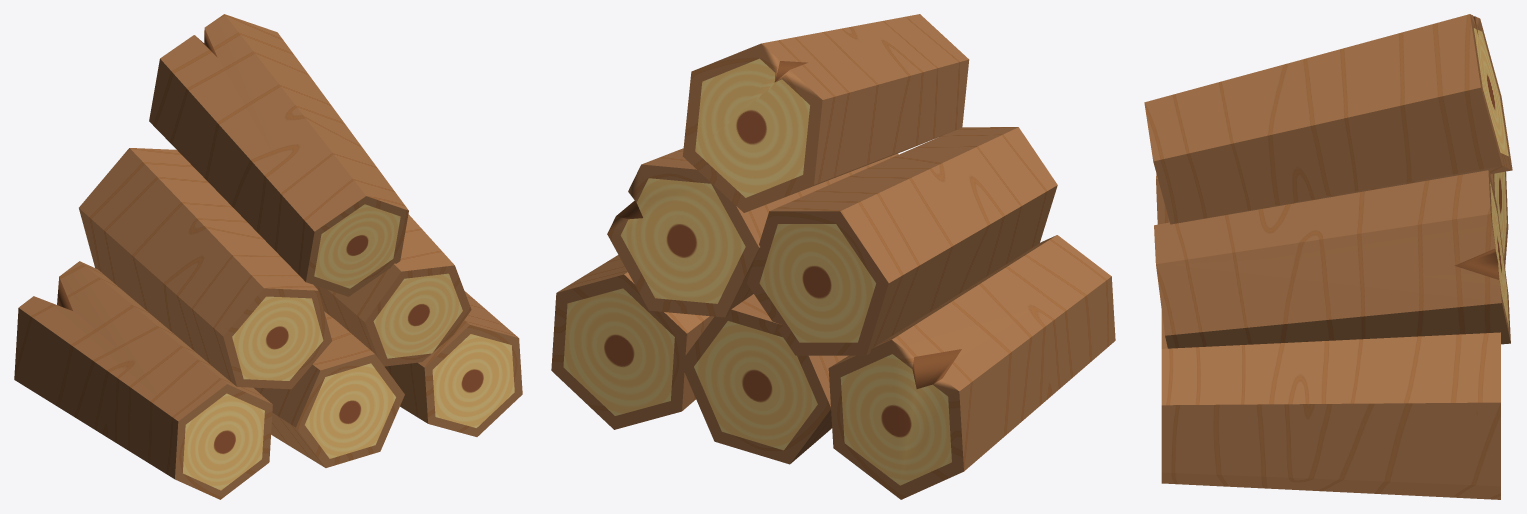
File: FirewoodPile.fbx
3 renders of one model, left to right at view 1: azimuth 30°, elevation 25°; view 2: azimuth 150°, elevation 25°; view 3: azimuth 270°, elevation 25°, orthographic. The views are drawn at different scales.
Parts seen in each view (by area): view 1: FirewoodPile; view 2: FirewoodPile; view 3: FirewoodPile.
Part boxes in pixels (box(x1,y1,x2,y2)): FirewoodPile: box(14, 14, 522, 499); FirewoodPile: box(551, 14, 1115, 499); FirewoodPile: box(1144, 14, 1512, 499).
Bounding box in the file's own units: 134 × 126 × 100.
Materials: 1 (1 with a texture image).
